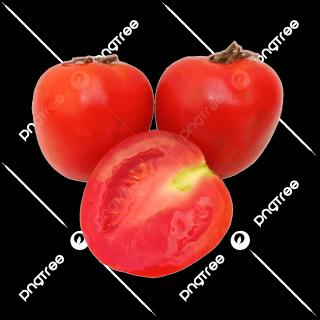Tomat: (32, 54, 155, 183)
